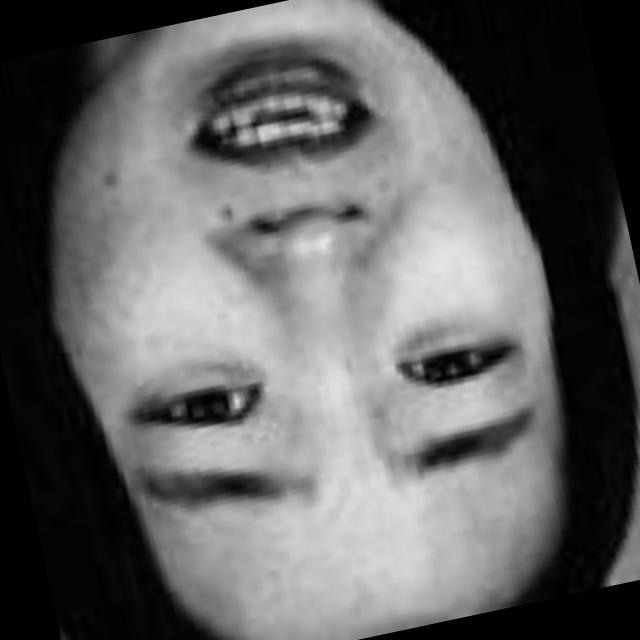fear: (36, 0, 605, 623)
